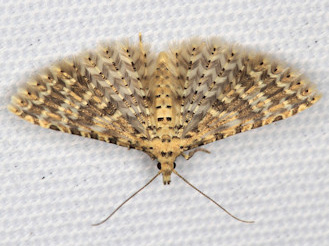Alucitidae: (3, 25, 321, 224)
moth: (5, 27, 323, 226)
